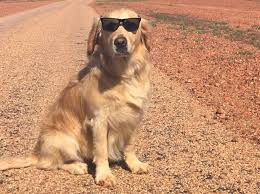Golden Retriever: (19, 6, 165, 188)
